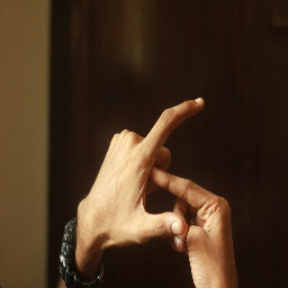E: (132, 76, 221, 242)
